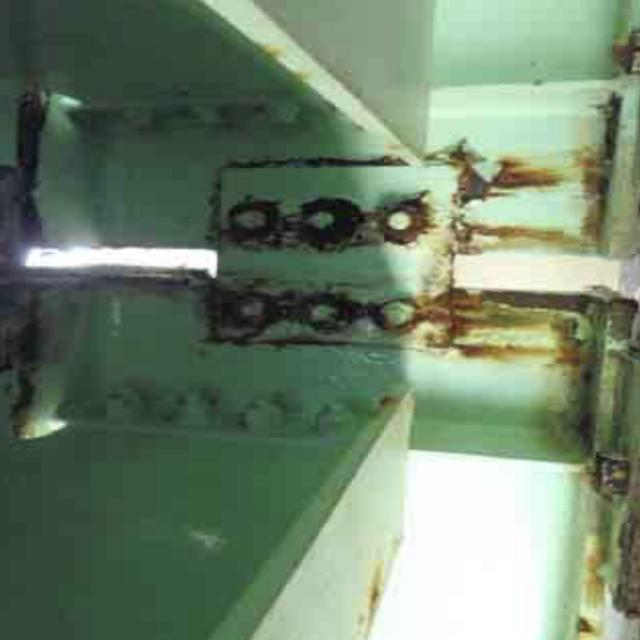corrosion: (212, 130, 594, 371)
